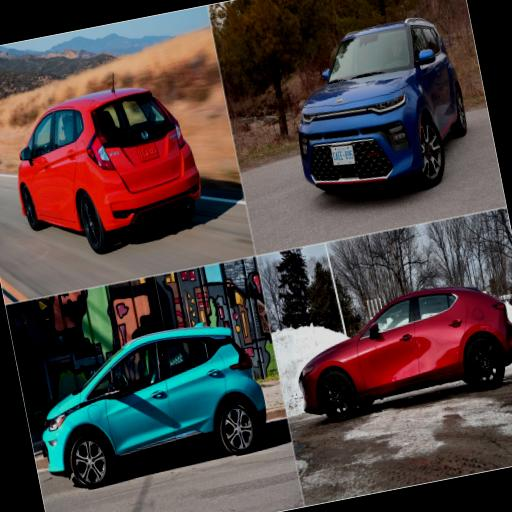Sedan-sDLz: (300, 18, 466, 191), (300, 287, 512, 420)
hatchback: (43, 269, 270, 487), (18, 80, 201, 254)
